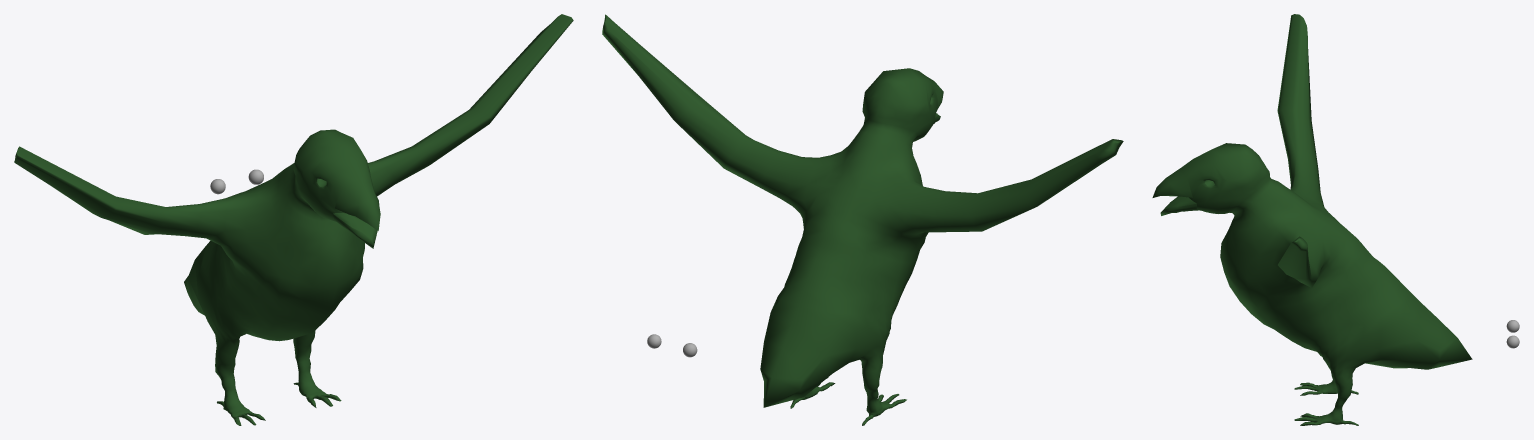
Rendered from Quetzal_Mesh.fbx.
The picture shows the model from 3 angles, left to right: view 1: azimuth 30°, elevation 25°; view 2: azimuth 150°, elevation 25°; view 3: azimuth 270°, elevation 25°; orthographic projection. The views are drawn at different scales.
Parts seen in each view (by area): view 1: polySurface85; view 2: polySurface85; view 3: polySurface85.
Part boxes in pixels (bbox=[...]): polySurface85: bbox=[14, 14, 573, 425]; polySurface85: bbox=[602, 14, 1123, 425]; polySurface85: bbox=[1152, 14, 1472, 425].
Size of the model in its own units: 8.05 by 4.7 by 5.5.
